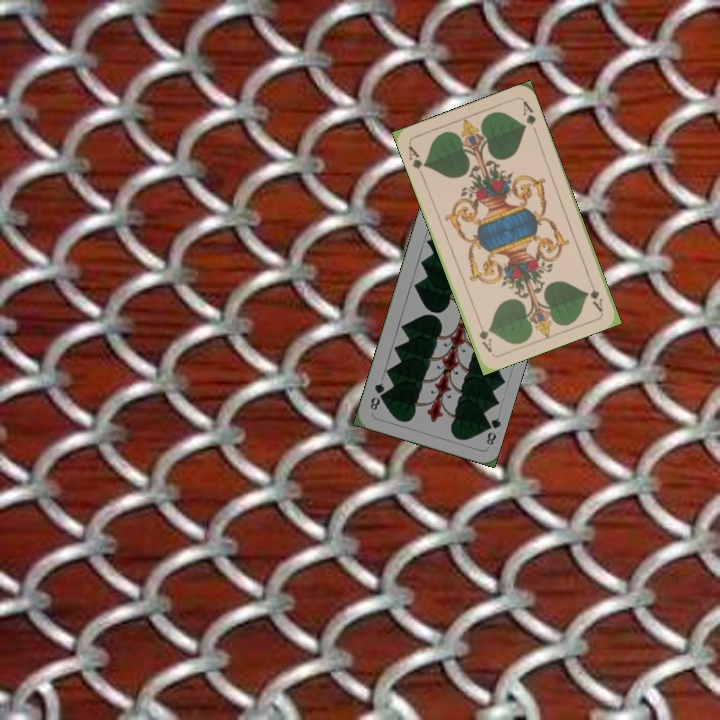G8: (481, 414, 504, 448)
GA: (404, 141, 429, 180), (584, 275, 605, 314)
